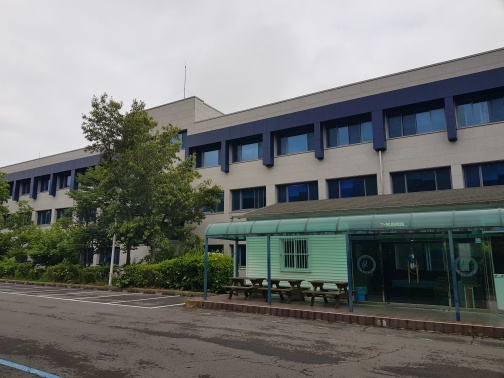College of Social Sciences: (9, 56, 504, 318), (186, 181, 504, 319), (217, 83, 459, 173)
